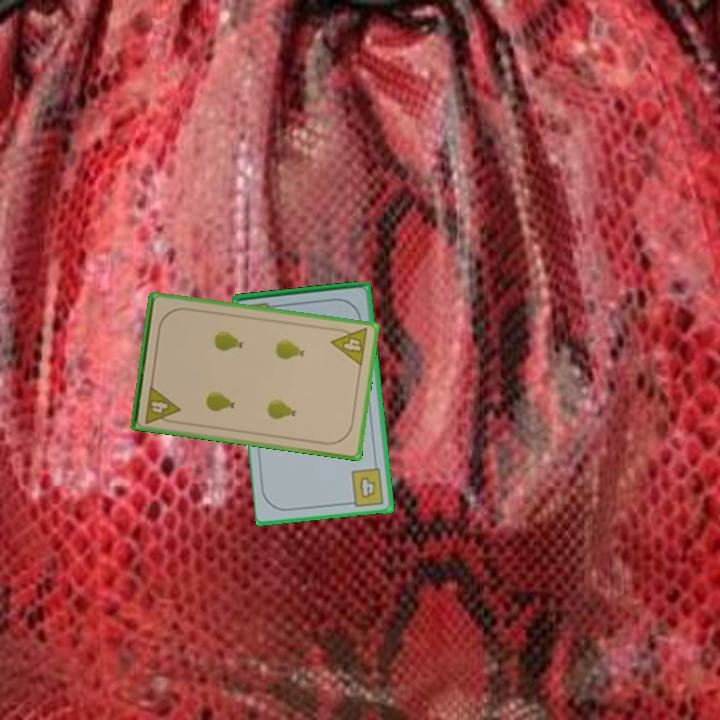4b: (344, 465, 387, 509)
4p: (328, 324, 371, 369), (141, 382, 183, 426)
